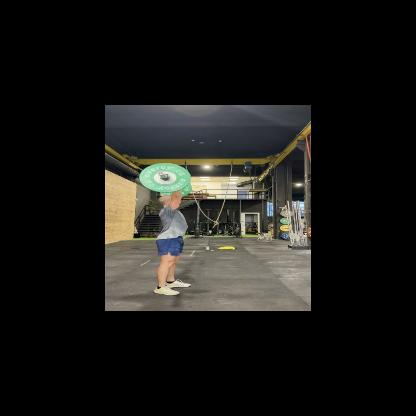barbell: (140, 163, 191, 193)
